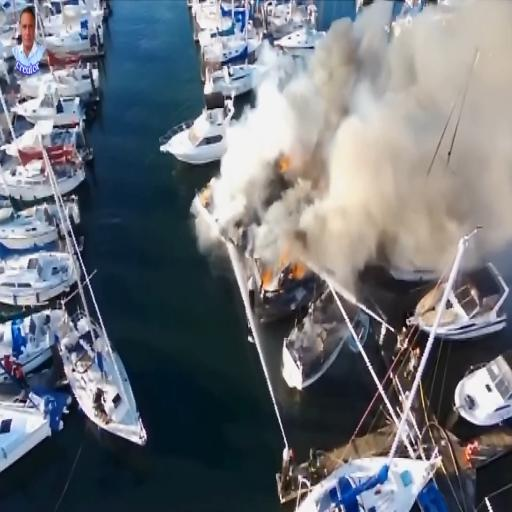smoke: (325, 0, 512, 242), (319, 11, 512, 127), (273, 115, 403, 261)
